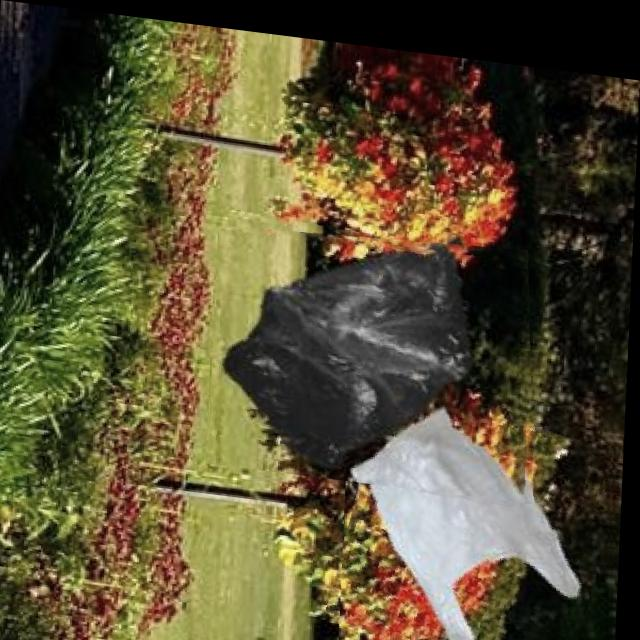litter: (211, 205, 546, 490), (343, 367, 624, 640)
